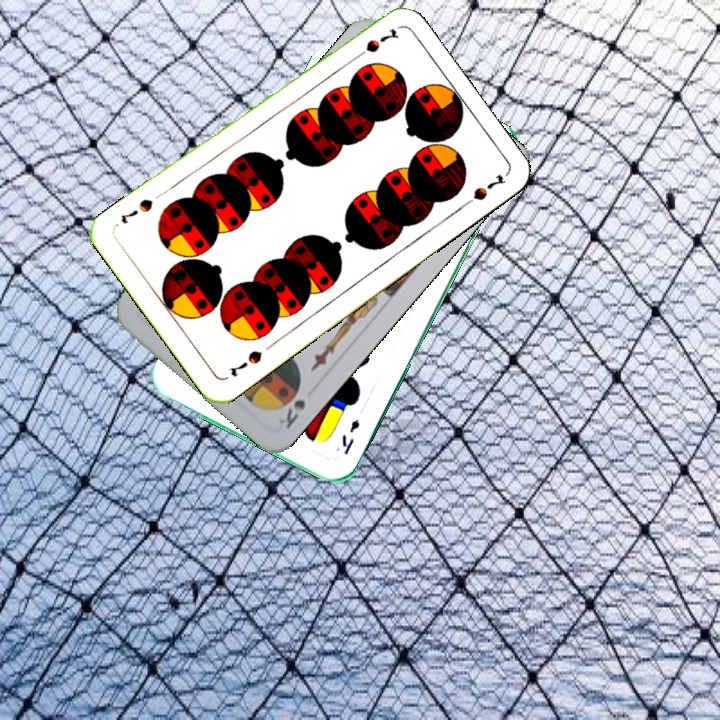EK: (337, 415, 363, 458)
S7: (348, 24, 401, 64), (224, 346, 265, 380)
SK: (274, 395, 308, 432)
